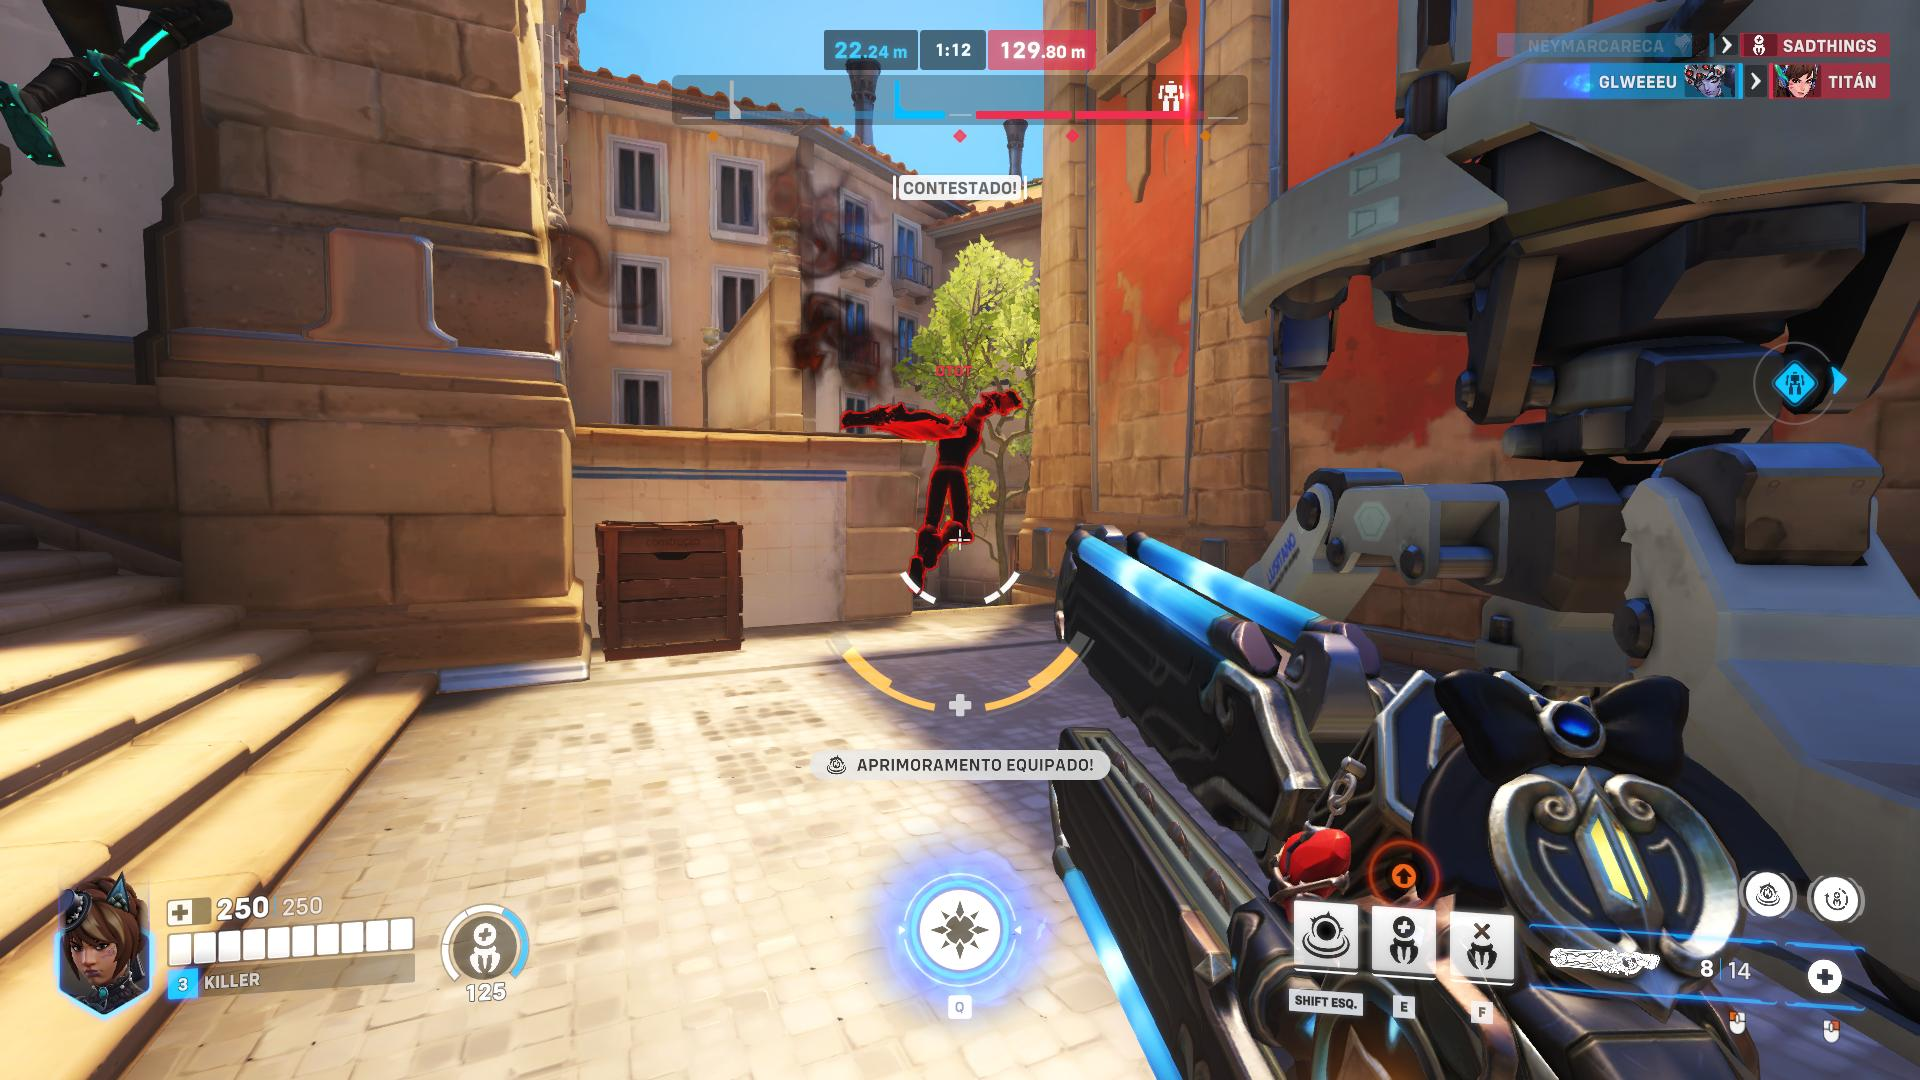enemy: (909, 405, 986, 593)
